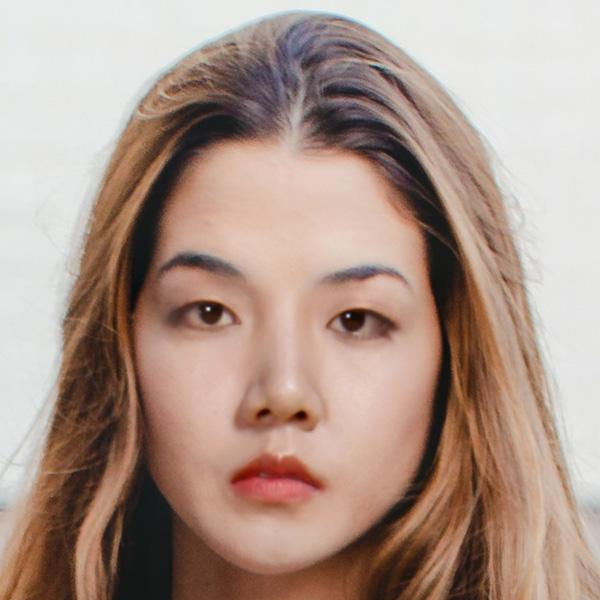Eyes: (313, 294, 406, 355), (159, 284, 253, 342)
